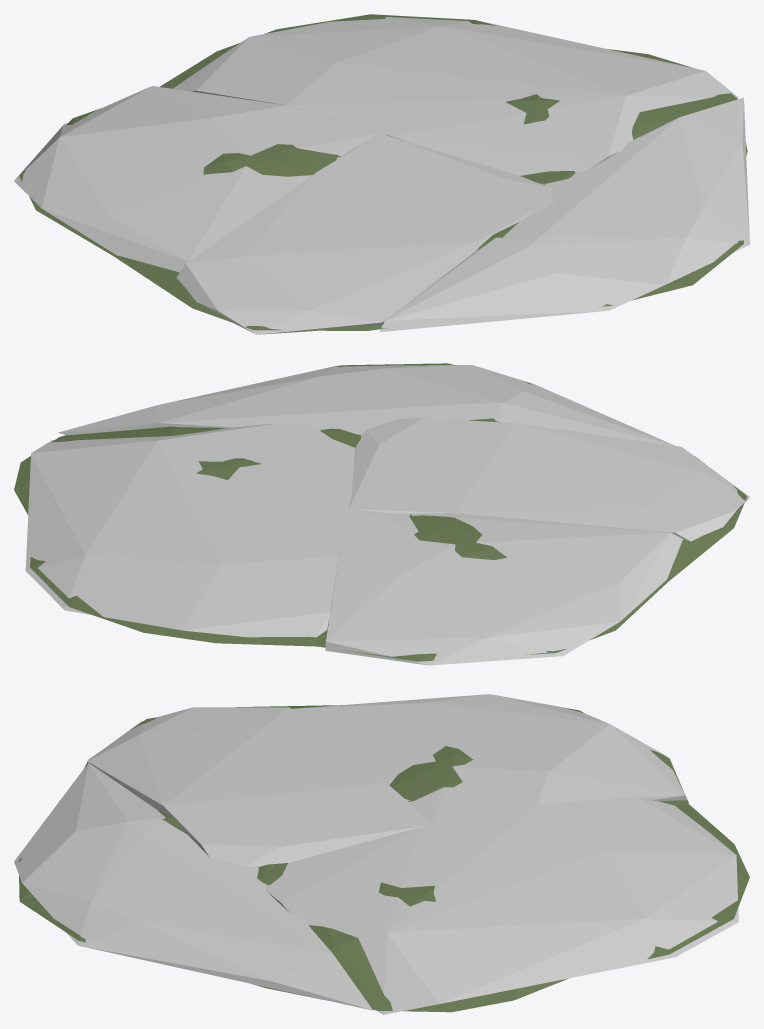
Rendered from SM_Env_Ground_Grass_01.fbx.
3 renders of one model, top to bottom at view 1: azimuth 30°, elevation 25°; view 2: azimuth 150°, elevation 25°; view 3: azimuth 270°, elevation 25°, orthographic. The views are drawn at different scales.
Visible parts, largest first — view 1: SM_Env_Ground_Grass_01_ConvexHulls, SM_Env_Ground_Grass_01; view 2: SM_Env_Ground_Grass_01_ConvexHulls, SM_Env_Ground_Grass_01; view 3: SM_Env_Ground_Grass_01_ConvexHulls, SM_Env_Ground_Grass_01.
Boxes of the visible parts, box(x1,y1,x2,y2) form: SM_Env_Ground_Grass_01_ConvexHulls: box(14, 14, 749, 334); SM_Env_Ground_Grass_01: box(19, 14, 747, 330); SM_Env_Ground_Grass_01_ConvexHulls: box(25, 365, 749, 665); SM_Env_Ground_Grass_01: box(14, 363, 747, 661); SM_Env_Ground_Grass_01_ConvexHulls: box(14, 694, 738, 1014); SM_Env_Ground_Grass_01: box(18, 705, 749, 1012).
Bounding box in the file's own units: 952 × 944 × 41.75.
Materials: 2 (1 with a texture image).
